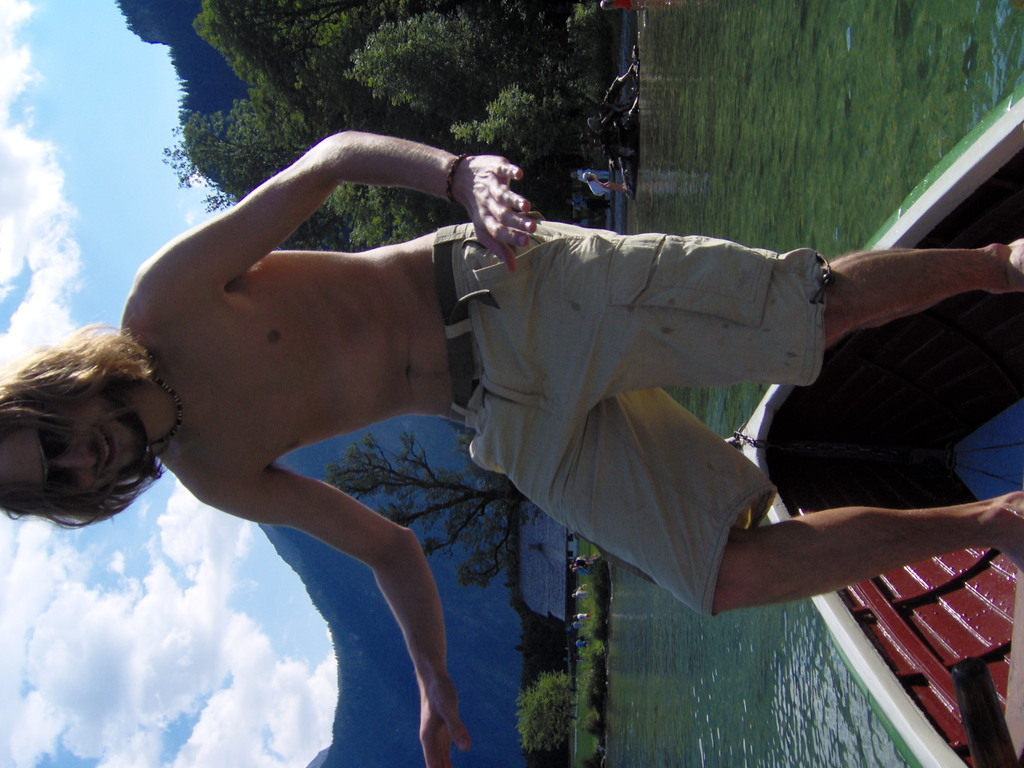Human_hand: (442, 143, 529, 248), (416, 683, 471, 767)
